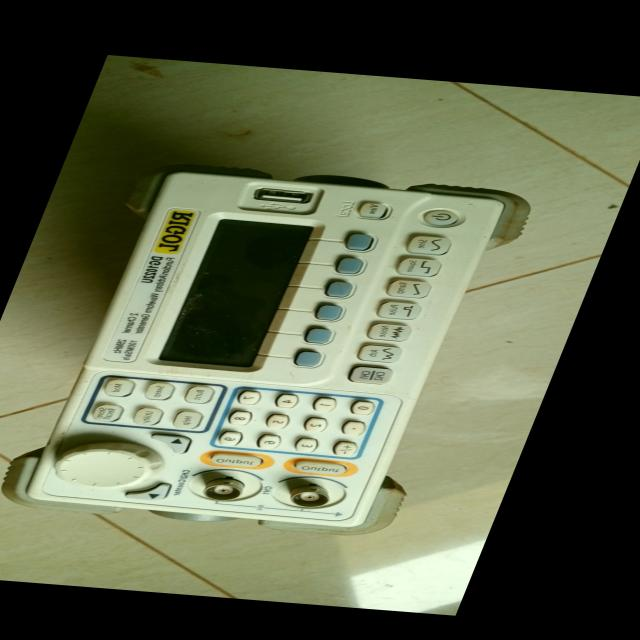Function Arbitrary Wave Form Generator 25Mhz: (0, 138, 561, 548)
